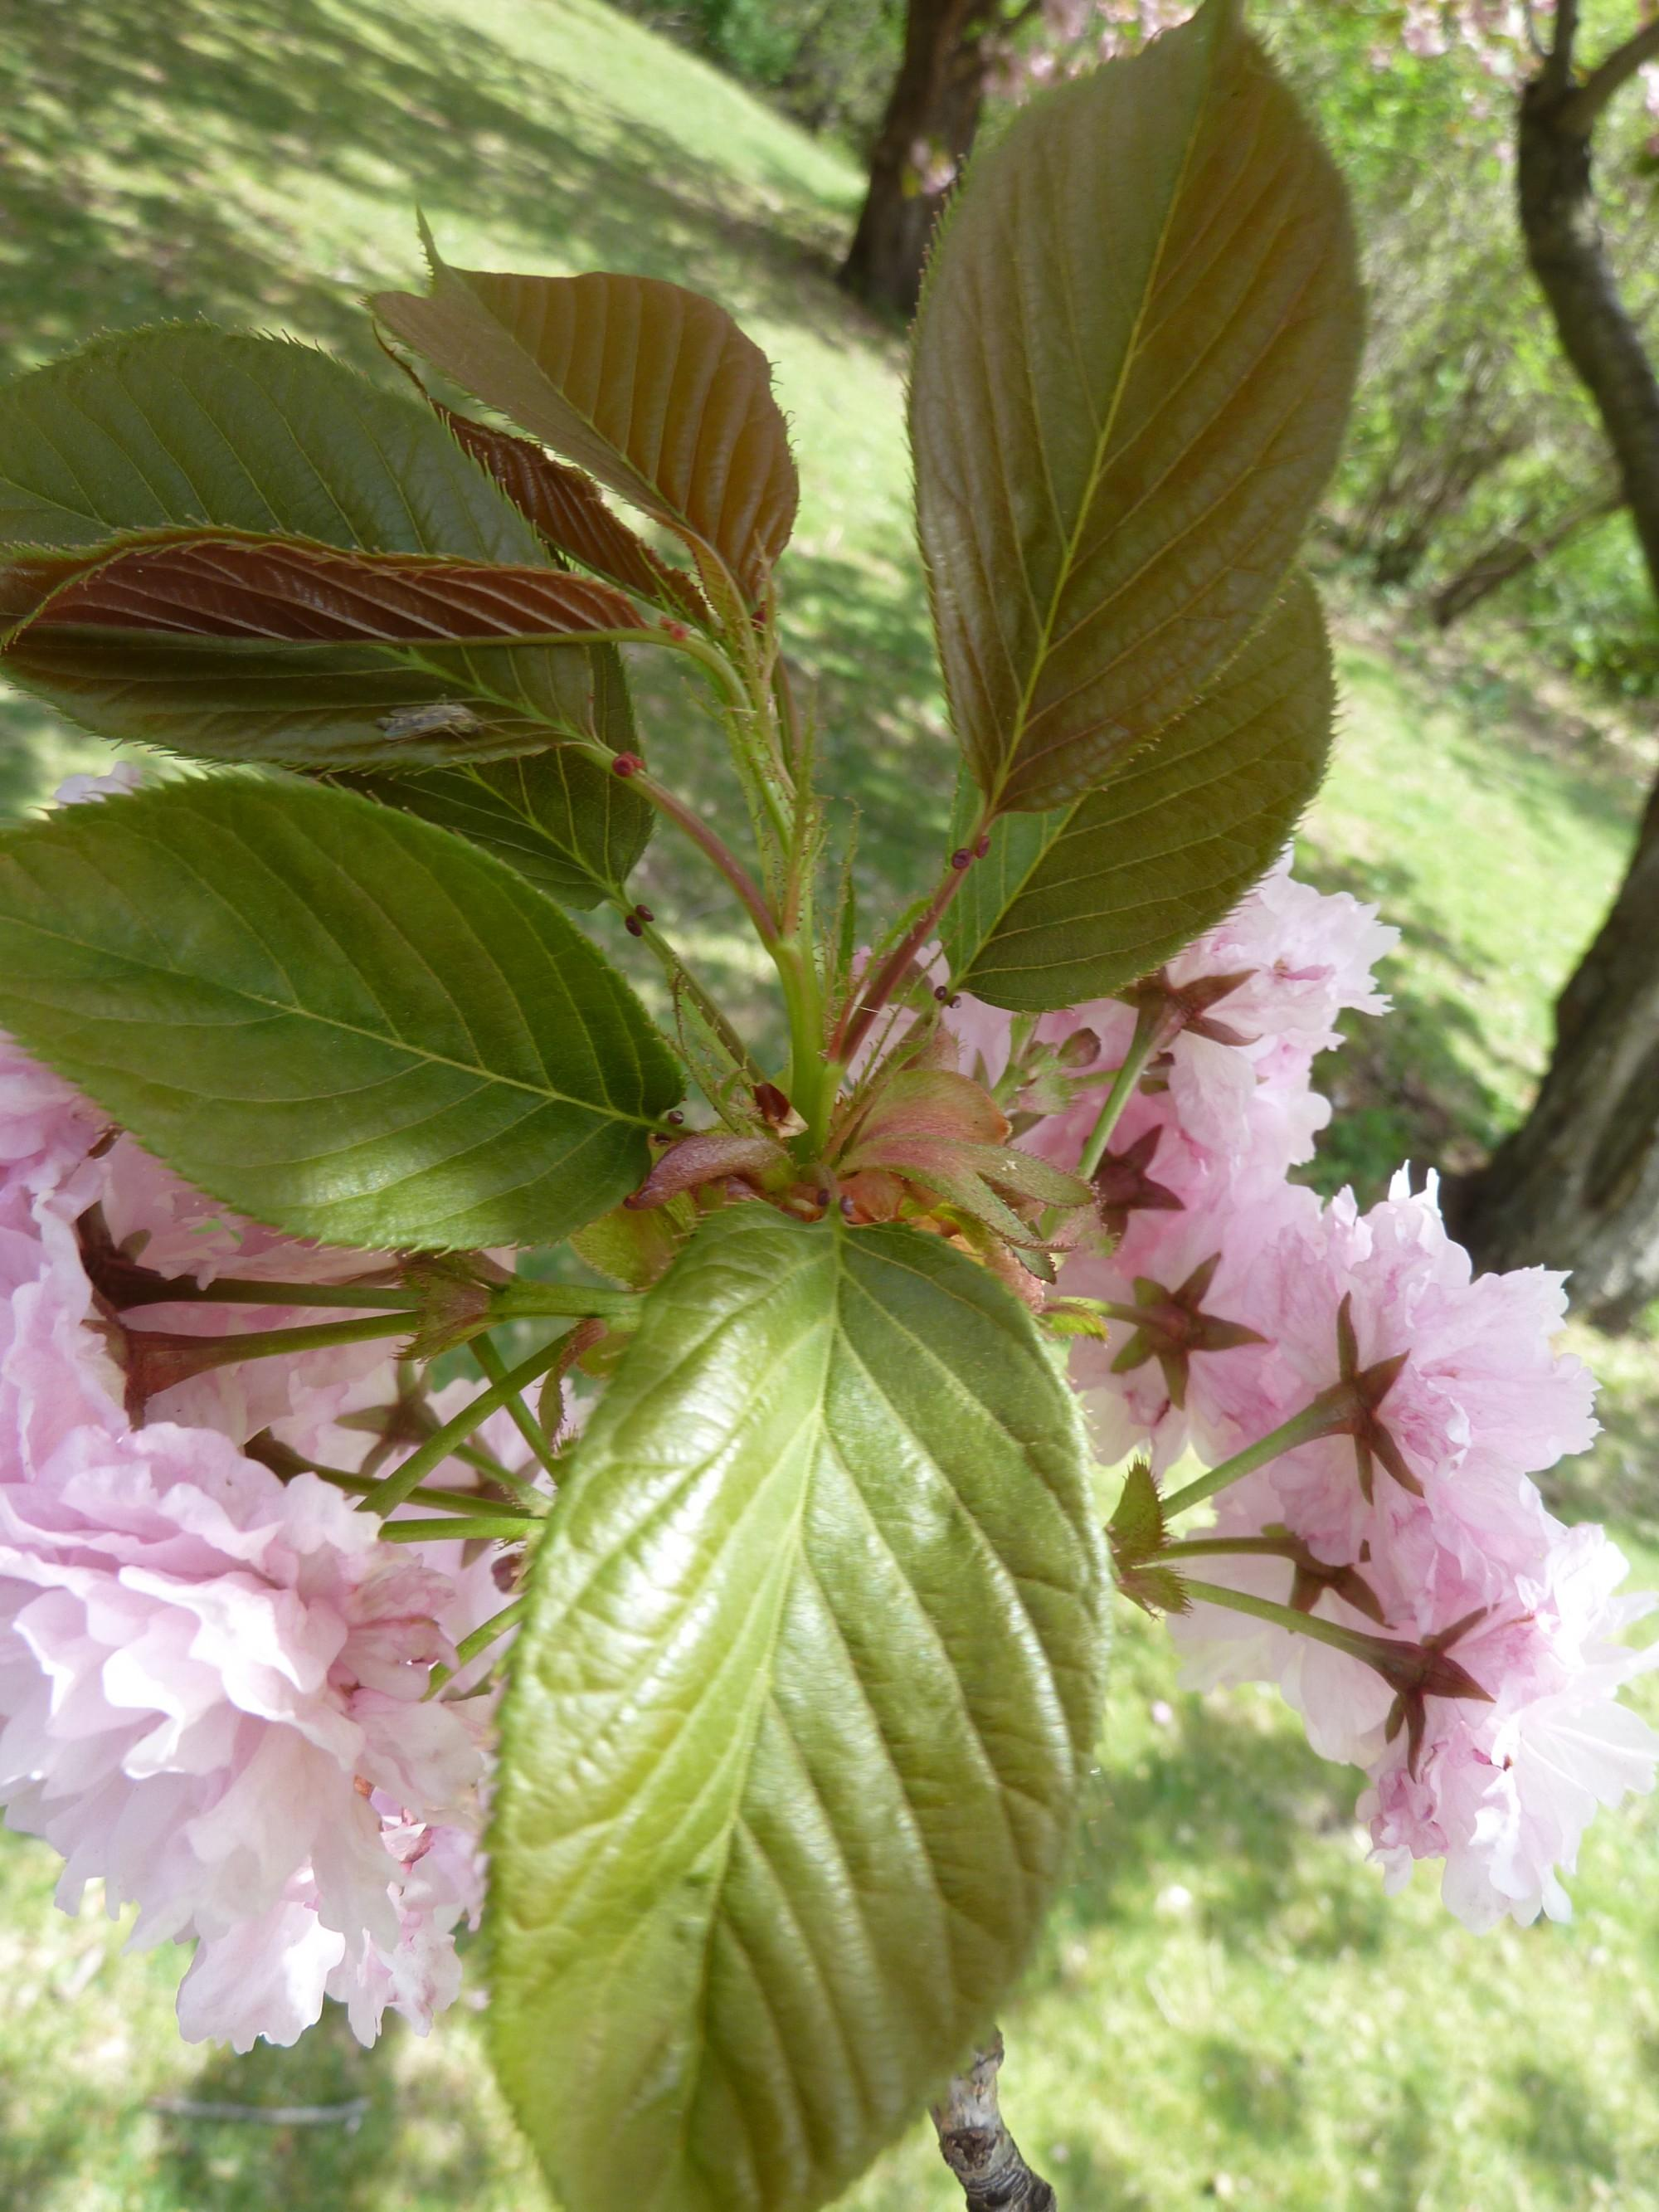Cherry leaf: (500, 1178, 1127, 2212), (897, 9, 1406, 894), (0, 767, 681, 1239), (0, 310, 631, 758), (333, 213, 852, 697)
